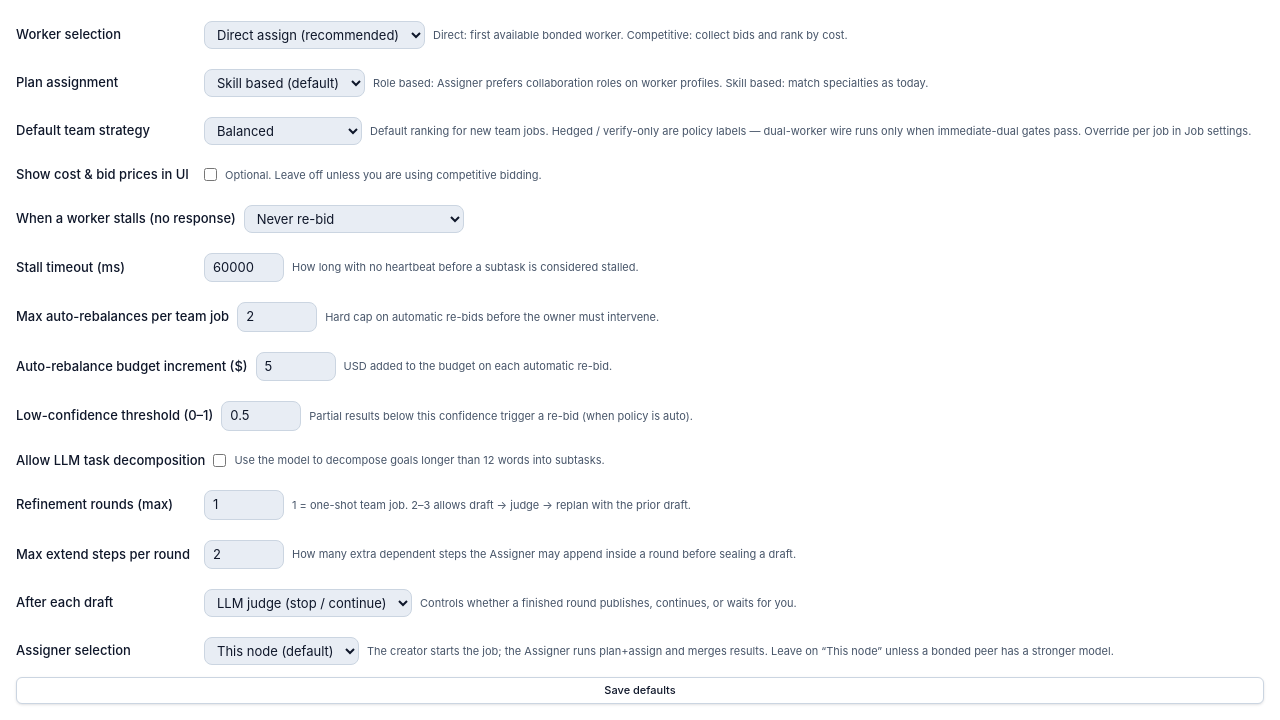
Test case: ChainDefaultsPanel › shows saved state after successful save
The width and height of the screenshot is (1280, 720).
(page scrolled)
Click the button "Save defaults". click: coordinates (640, 690)
box: [16,677,1264,704]
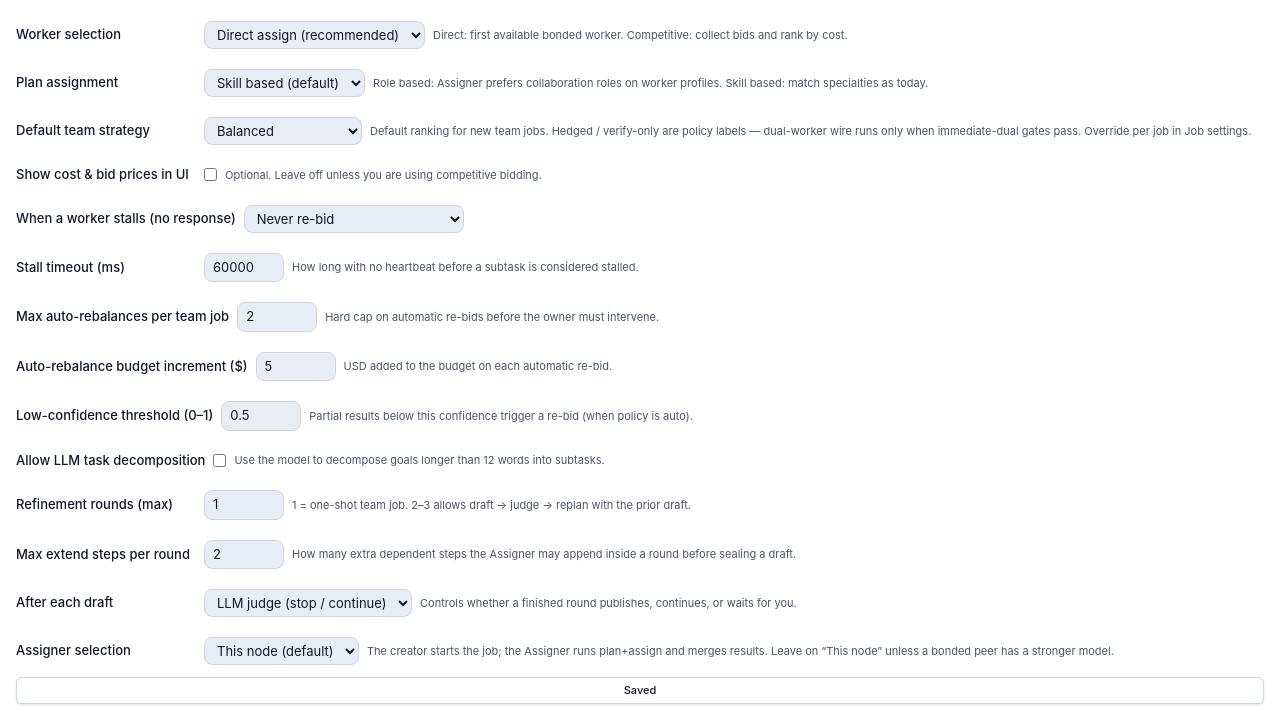
Now the button "Saved" is shown, box [16,677,1264,704]
